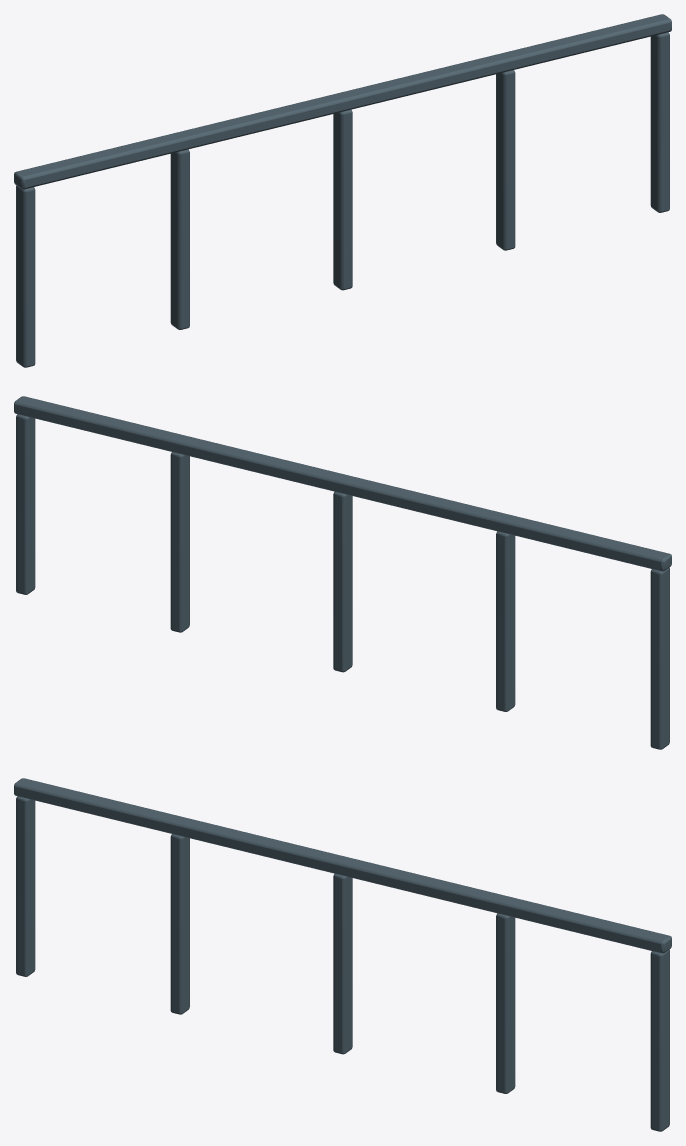
Rendered from MOD_Railing_01.glb.
3 views of the same model, one above another, from view 1: azimuth 30°, elevation 25°; view 2: azimuth 150°, elevation 25°; view 3: azimuth 330°, elevation 25° (orthographic).
Parts seen in each view (by area): view 1: MOD_Railing_01; view 2: MOD_Railing_01; view 3: MOD_Railing_01.
Part boxes in pixels (x1=…): MOD_Railing_01: x1=14, y1=14, x2=671, y2=367; MOD_Railing_01: x1=14, y1=396, x2=671, y2=749; MOD_Railing_01: x1=14, y1=778, x2=671, y2=1131.
Size of the model in its own units: 4 by 1.12 by 0.1.
